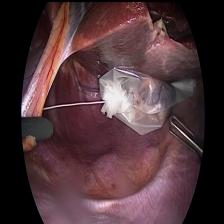Grasper: (168, 110, 200, 160)
Specimen Bag: (94, 61, 194, 136)
